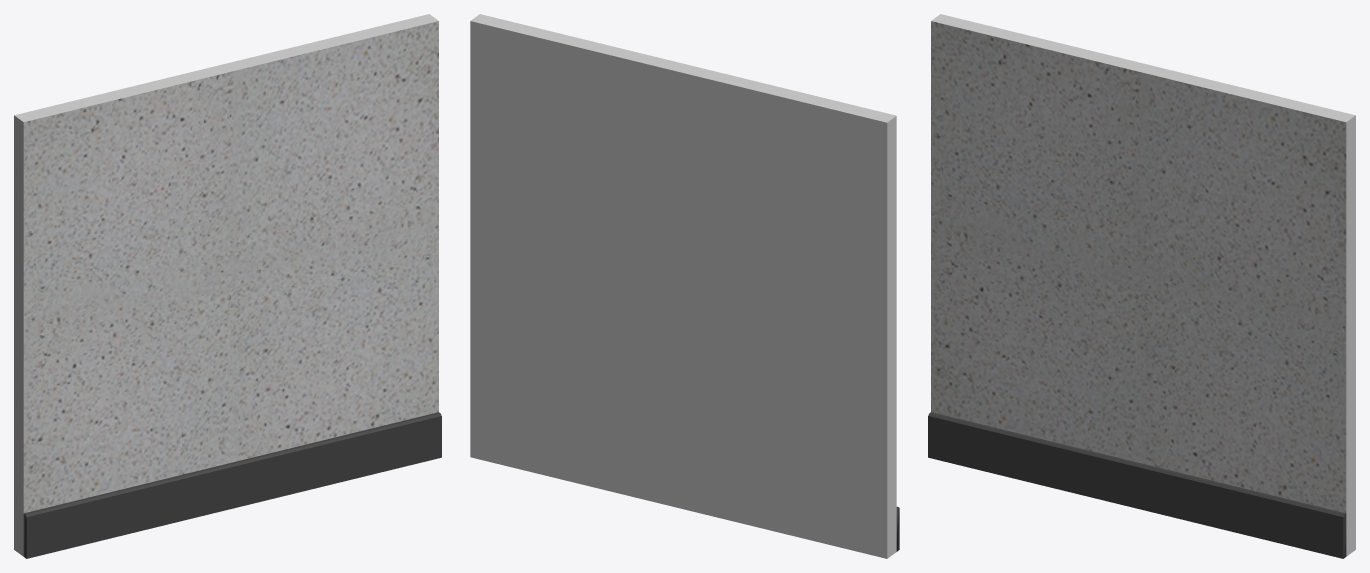
File: House_Corridor_Wall_Full.fbx
3 renders of one model, left to right at view 1: azimuth 30°, elevation 25°; view 2: azimuth 150°, elevation 25°; view 3: azimuth 330°, elevation 25°, orthographic.
Visible parts, largest first — view 1: WallFloor2_01__6_.003; view 2: WallFloor2_01__6_.003; view 3: WallFloor2_01__6_.003.
Part boxes in pixels (left/top/right/bottom): WallFloor2_01__6_.003: left=14, top=14, right=441, bottom=558; WallFloor2_01__6_.003: left=470, top=14, right=899, bottom=558; WallFloor2_01__6_.003: left=928, top=14, right=1355, bottom=558.
Size of the model in its own units: 250 by 250 by 13.
